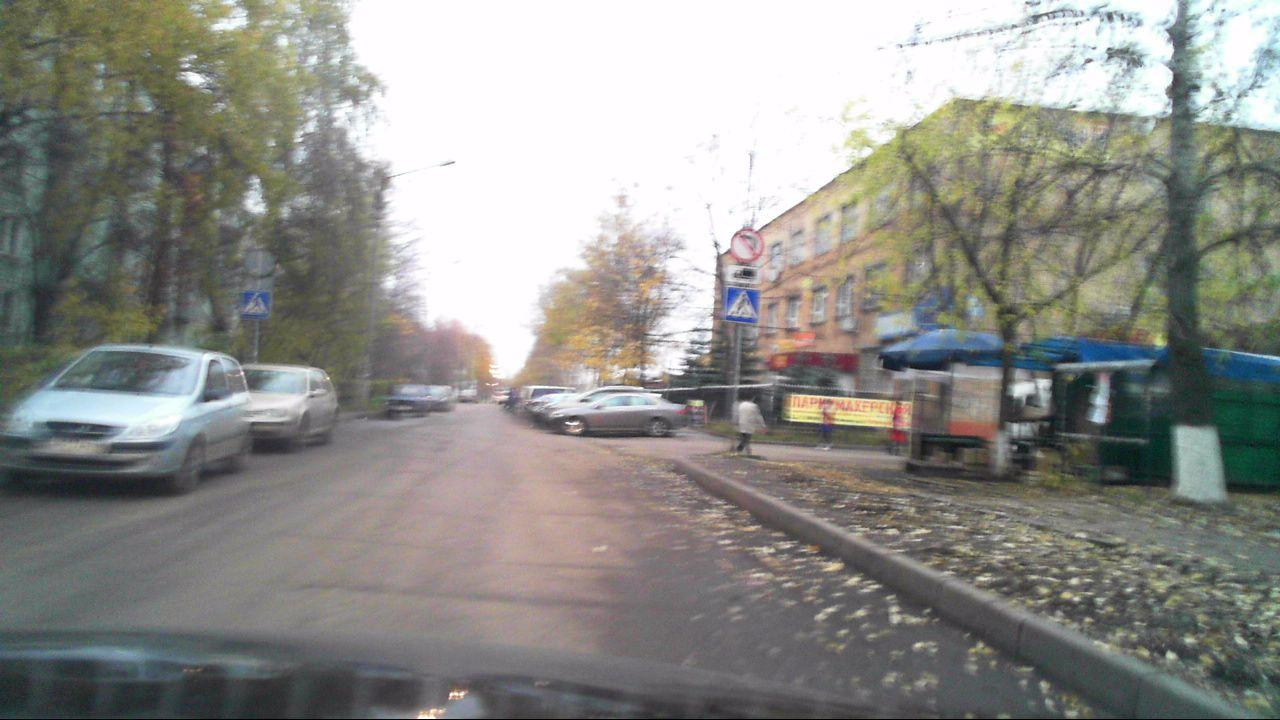3_18_2: (729, 226, 763, 263)
5_19_1: (725, 286, 760, 322)
5_19_2: (241, 289, 273, 320)
8_4_1: (726, 264, 760, 284)
